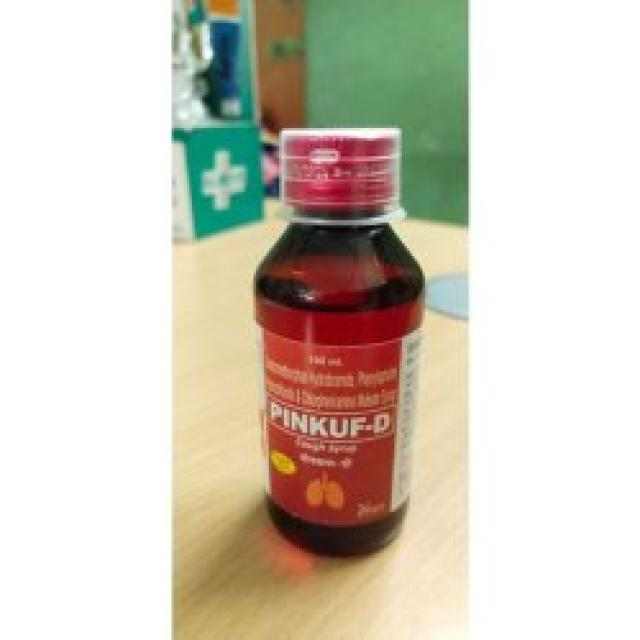B3: (241, 118, 440, 566)
